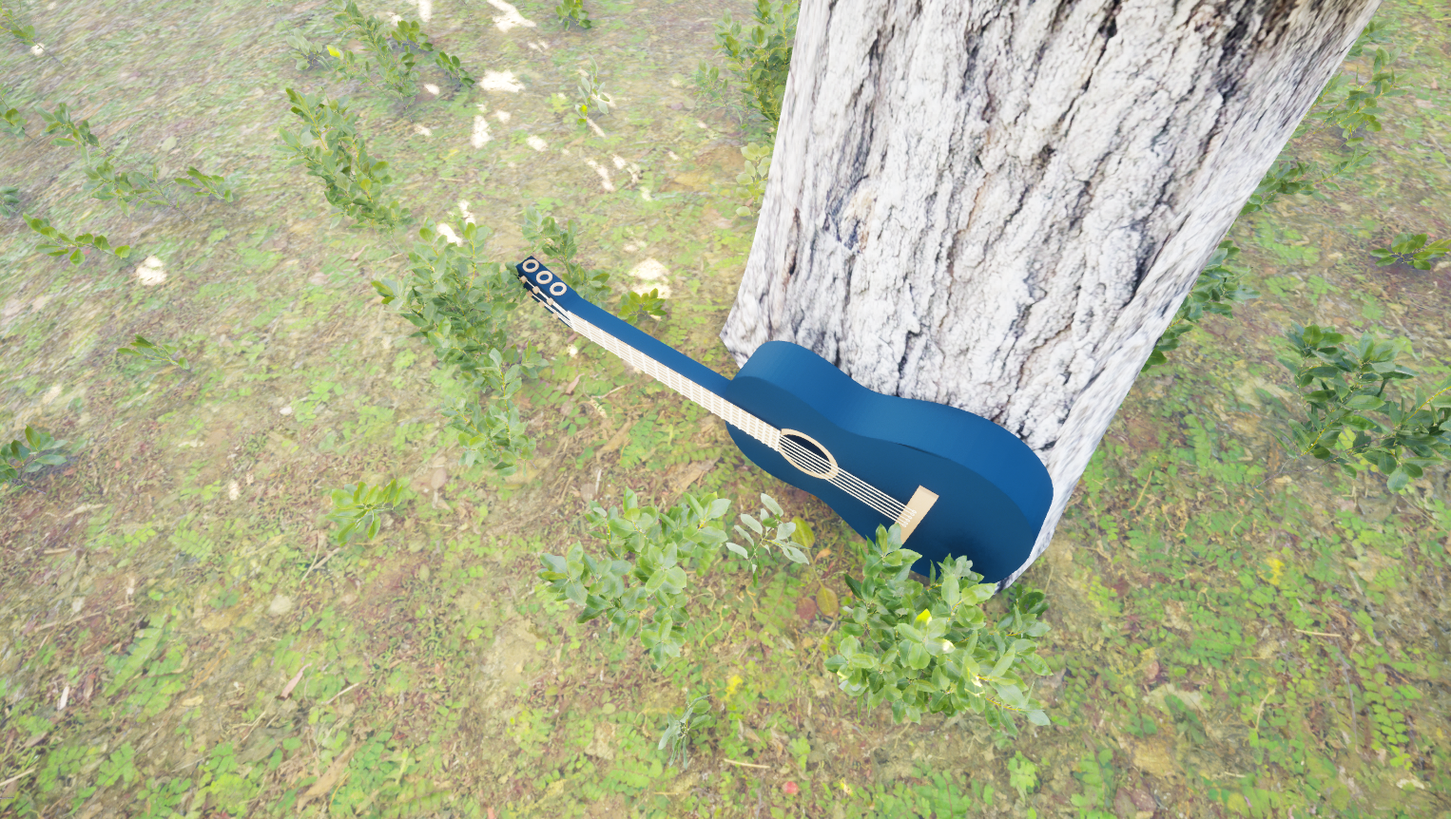Guitar: (469, 175, 1098, 609)
